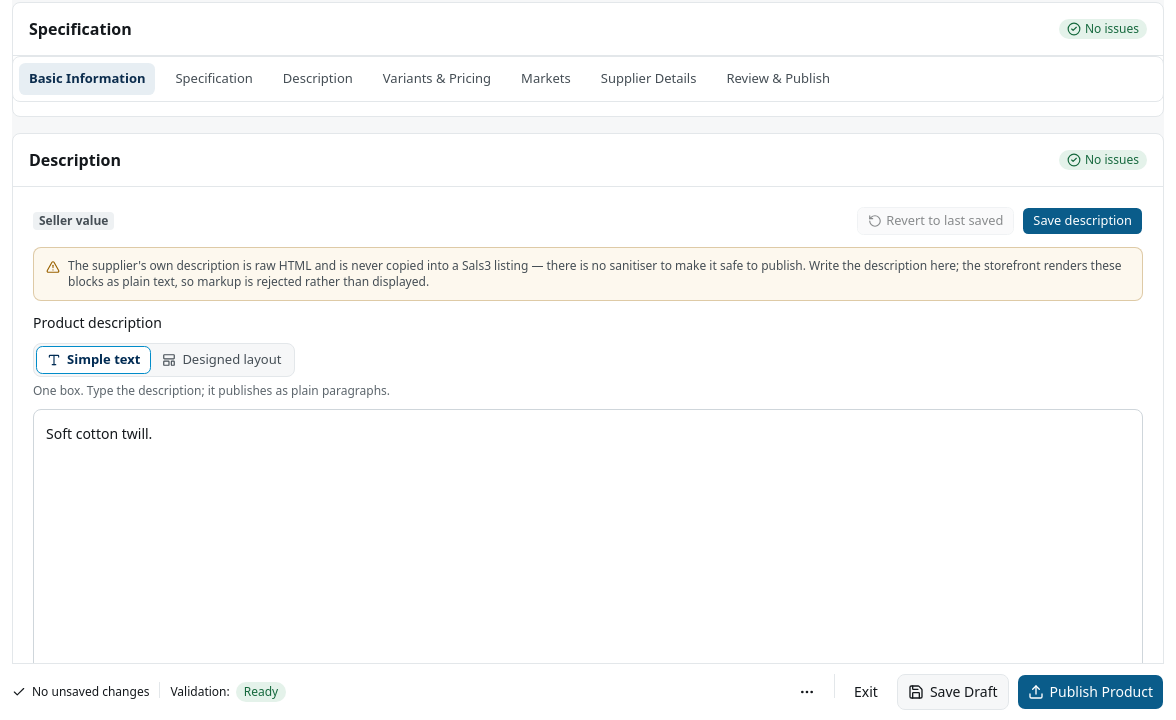
Test case: Description section - simple text and designed layout › switching to the designed layout needs no warning and loses nothing
(page scrolled)
Click the button "Designed layout": (222, 360) [151,346,292,374]
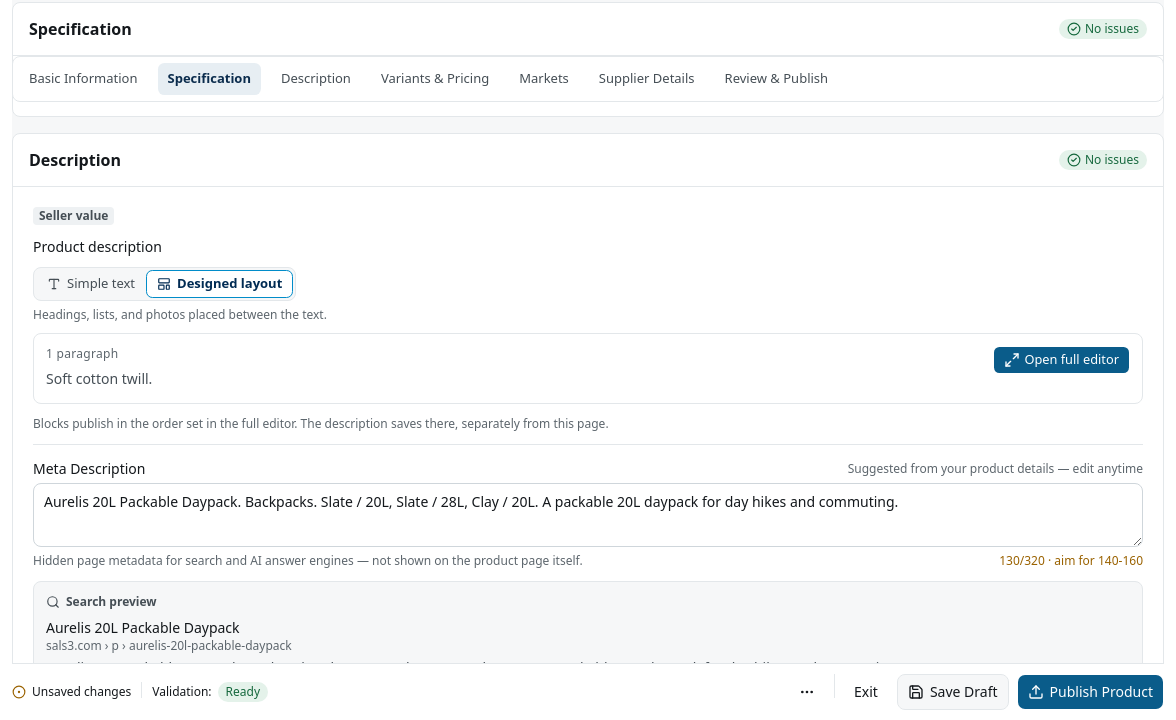
Expected: the link "Open full editor" is shown, [993,346,1130,374]
